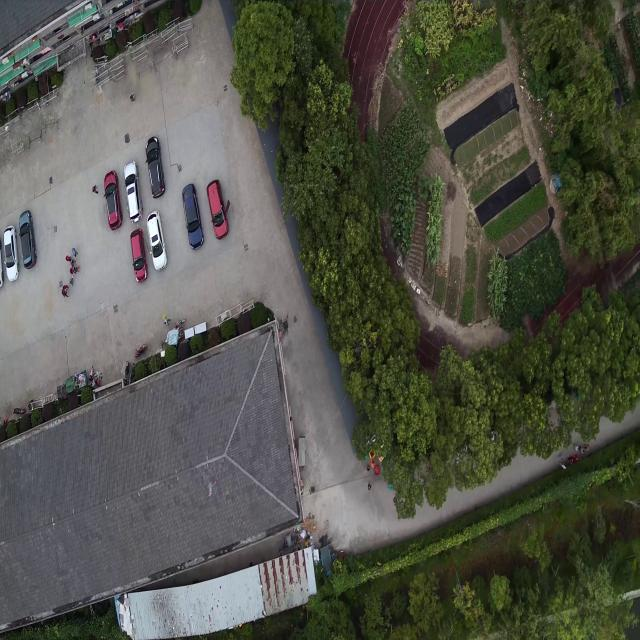UAV: (203, 479, 217, 501)
